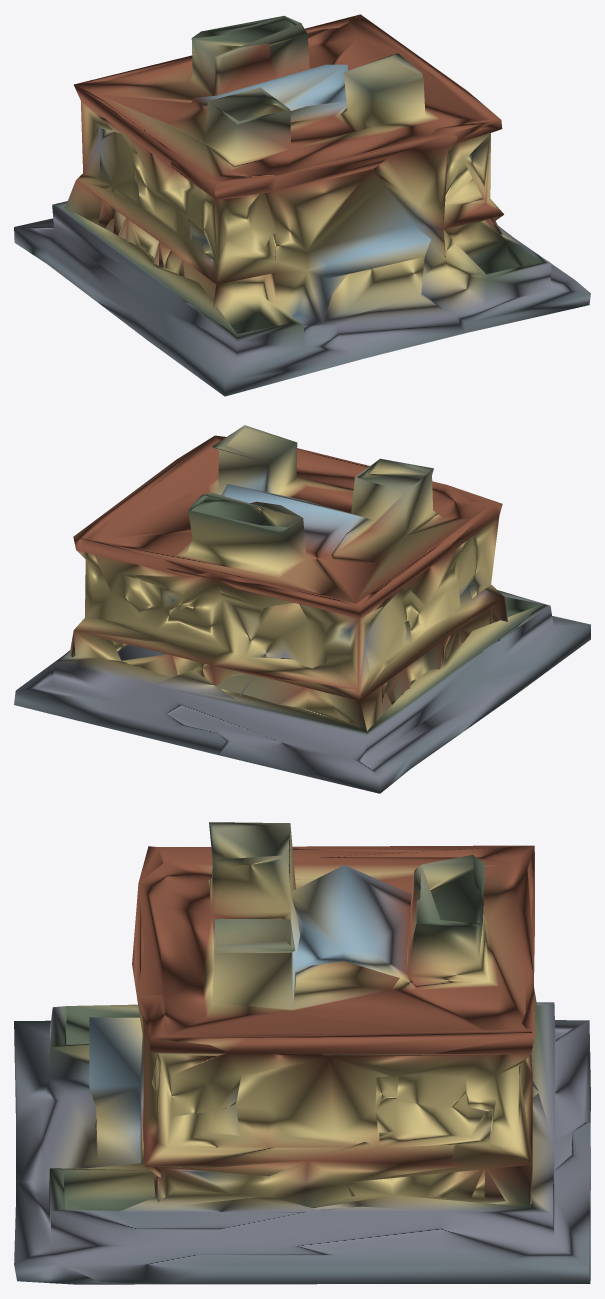
File: gen3d-hotel-lod1.glb
The picture shows the model from 3 angles, top to bottom: view 1: azimuth 30°, elevation 25°; view 2: azimuth 150°, elevation 25°; view 3: azimuth 270°, elevation 25°; orthographic projection. The views are drawn at different scales.
Visible parts, largest first — view 1: part_0; view 2: part_0; view 3: part_0.
Part boxes in pixels (x1,y1,x2,y2): part_0: [14, 14, 590, 396]; part_0: [14, 425, 590, 793]; part_0: [14, 822, 590, 1284].
Bounding box in the file's own units: 1.89 × 0.9999 × 1.89.
